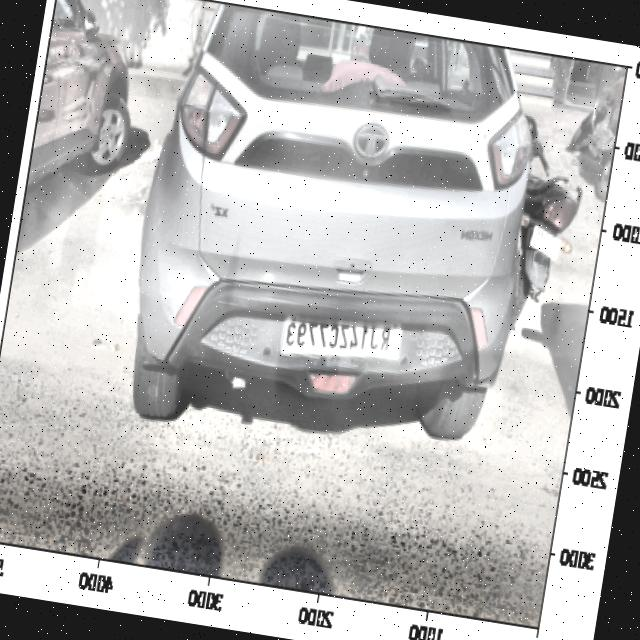license_plate: (278, 307, 398, 372)
